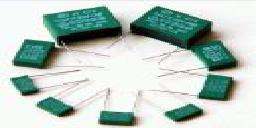Electrolytic-Capacitor: (9, 36, 110, 72), (142, 40, 246, 73), (41, 6, 128, 44), (130, 2, 212, 42), (148, 72, 239, 100), (100, 86, 143, 128), (35, 92, 83, 121)
